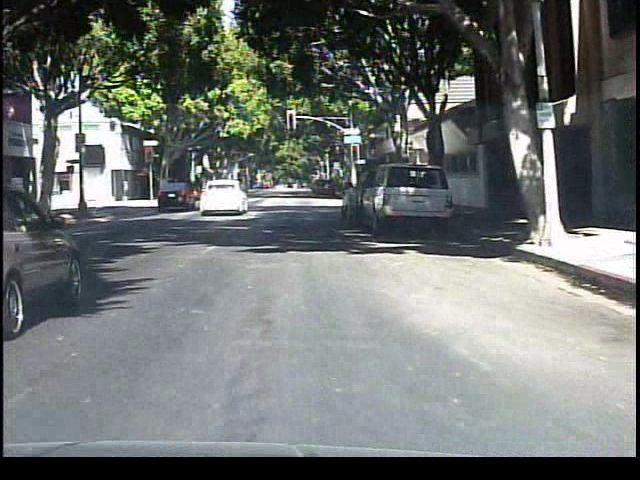person: (195, 170, 219, 214)
